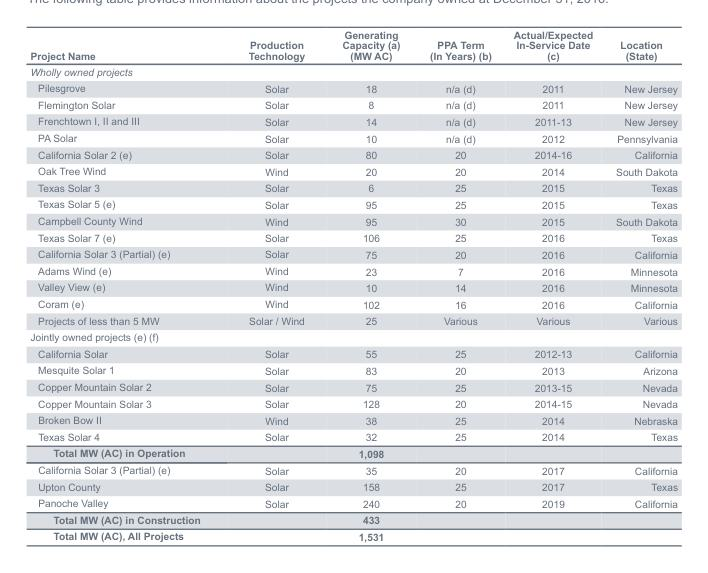table: (29, 29, 676, 542)
table column: (29, 29, 223, 542), (501, 29, 603, 542), (223, 29, 322, 542), (322, 29, 414, 542), (414, 29, 501, 542), (603, 29, 676, 542)
table column header: (29, 29, 676, 63)
table projected row header: (29, 328, 676, 345), (29, 63, 676, 79)
table row: (29, 29, 676, 63), (29, 79, 676, 96), (29, 112, 676, 129), (29, 129, 676, 146), (29, 162, 676, 179), (29, 195, 676, 212), (29, 212, 676, 229), (29, 245, 676, 262), (29, 278, 676, 295), (29, 295, 676, 312), (29, 328, 676, 345), (29, 361, 676, 378), (29, 378, 676, 395), (29, 411, 676, 428), (29, 444, 676, 461), (29, 461, 676, 478), (29, 494, 676, 511), (29, 63, 676, 79), (29, 96, 676, 112), (29, 146, 676, 162), (29, 179, 676, 195), (29, 229, 676, 245), (29, 262, 676, 278), (29, 312, 676, 328), (29, 345, 676, 361), (29, 395, 676, 411), (29, 428, 676, 444), (29, 478, 676, 494), (29, 511, 676, 527), (29, 527, 676, 542)
